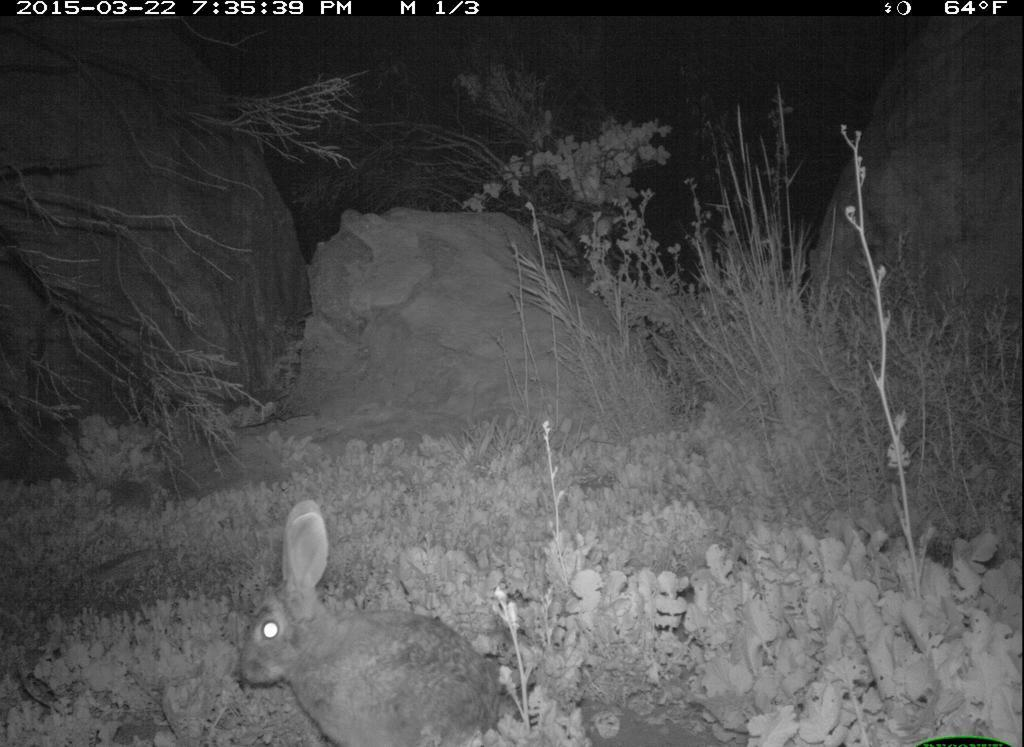rabbit: (227, 488, 529, 747)
